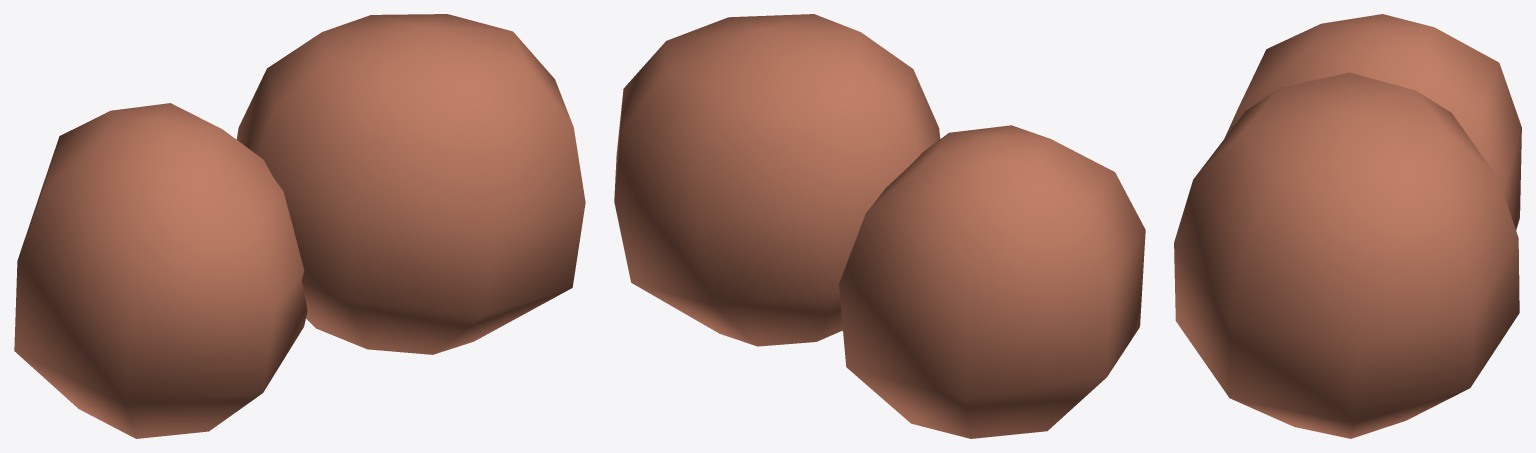
File: Shrub_Top_B_02_LOD2.gltf
3 renders of one model, left to right at view 1: azimuth 30°, elevation 25°; view 2: azimuth 150°, elevation 25°; view 3: azimuth 270°, elevation 25°, orthographic. The views are drawn at different scales.
Parts seen in each view (by area): view 1: Shrub_Top_B_02_LOD2_Cylinder.685; view 2: Shrub_Top_B_02_LOD2_Cylinder.685; view 3: Shrub_Top_B_02_LOD2_Cylinder.685.
Boxes of the visible parts, left/top/right/bottom form: Shrub_Top_B_02_LOD2_Cylinder.685: left=14, top=14, right=585, bottom=438; Shrub_Top_B_02_LOD2_Cylinder.685: left=614, top=14, right=1145, bottom=438; Shrub_Top_B_02_LOD2_Cylinder.685: left=1174, top=14, right=1521, bottom=438.
Size of the model in its own units: 8.02 by 4.91 by 4.51.
Materials: 1 (1 with a texture image).
